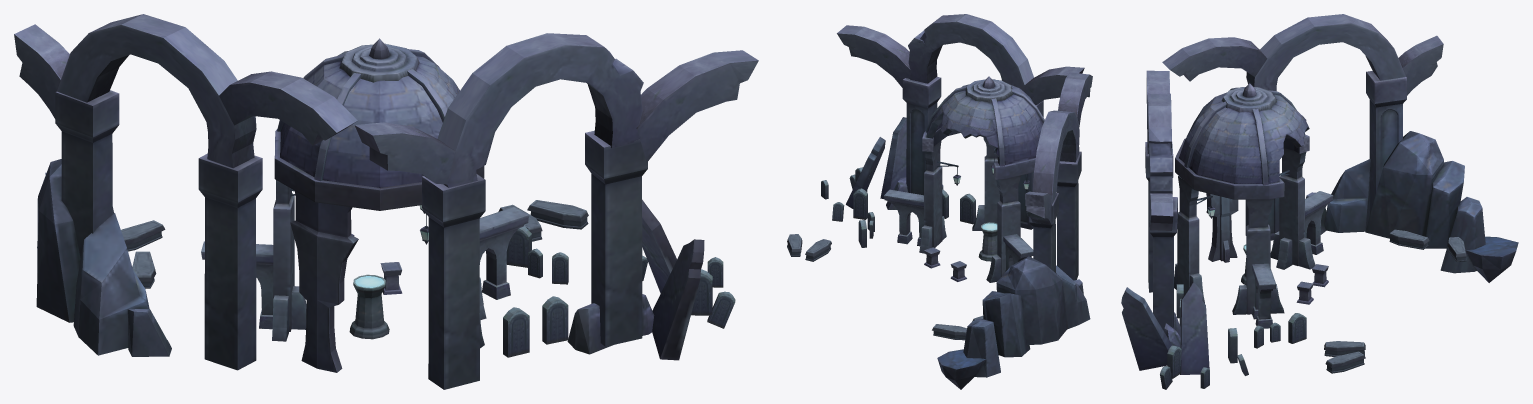
The model's file is Area02_1.fbx.
3 views of the same model, side by side, from view 1: azimuth 30°, elevation 25°; view 2: azimuth 150°, elevation 25°; view 3: azimuth 270°, elevation 25° (orthographic). The views are drawn at different scales.
Visible parts, largest first — view 1: Area02_1; view 2: Area02_1; view 3: Area02_1.
Boxes of the visible parts, box(x1,y1,x2,y2) form: Area02_1: box(14, 14, 758, 389); Area02_1: box(787, 14, 1092, 389); Area02_1: box(1121, 14, 1518, 389).
Size of the model in its own units: 4364 by 2923 by 4094.
